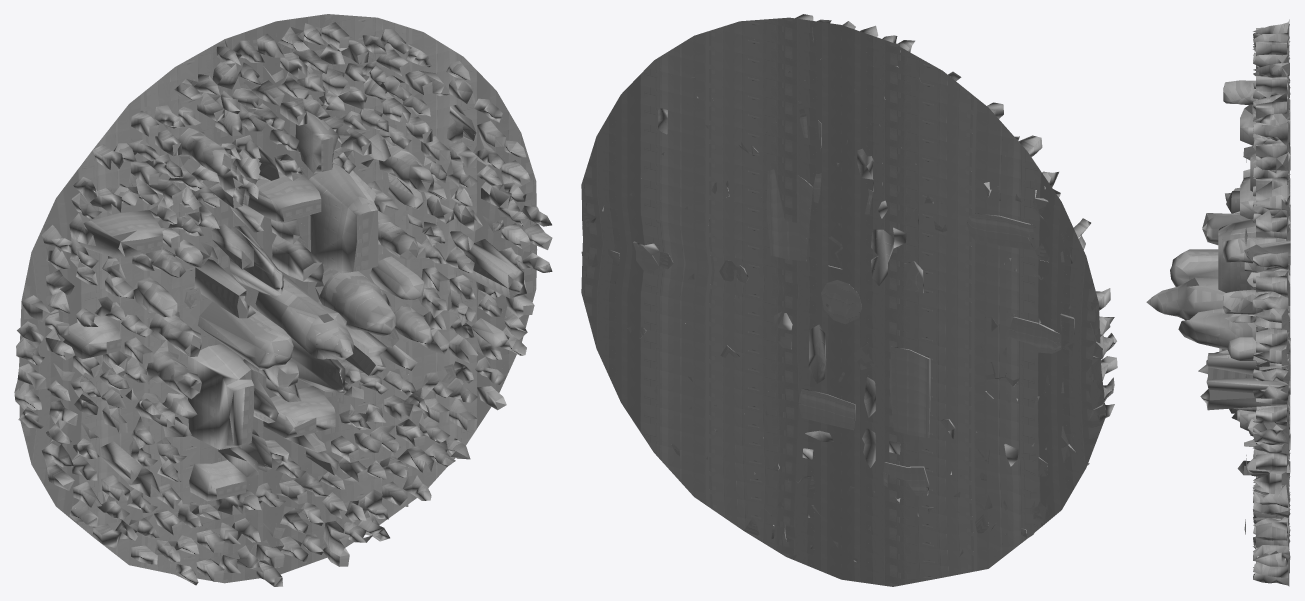
Rendered from city_LOD1.gltf.
The picture shows the model from 3 angles, left to right: view 1: azimuth 30°, elevation 25°; view 2: azimuth 150°, elevation 25°; view 3: azimuth 270°, elevation 25°; orthographic projection. The views are drawn at different scales.
Parts seen in each view (by area): view 1: city_LOD1; view 2: city_LOD1; view 3: city_LOD1.
Part boxes in pixels (left/top/right/bottom): city_LOD1: left=14, top=14, right=552, bottom=586; city_LOD1: left=581, top=14, right=1117, bottom=586; city_LOD1: left=1146, top=19, right=1290, bottom=586.
Size of the model in its own units: 3.76 by 3.81 by 0.9536.
1 material, 1 textured.
